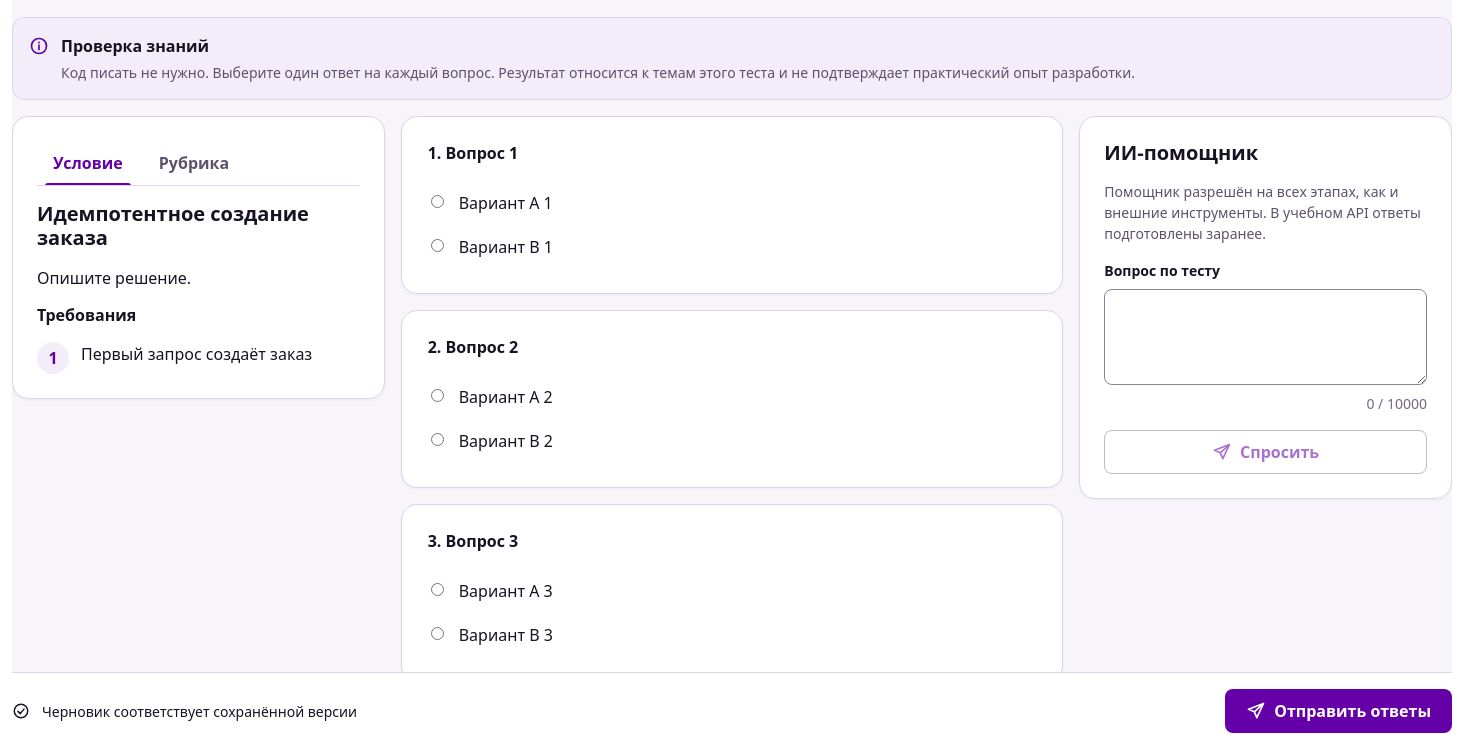
Test: assessment draft persistence › does not submit incomplete test answers
Click the button "Отправить ответы" at (1339, 711), box [1225,689,1452,733]
(page scrolled)
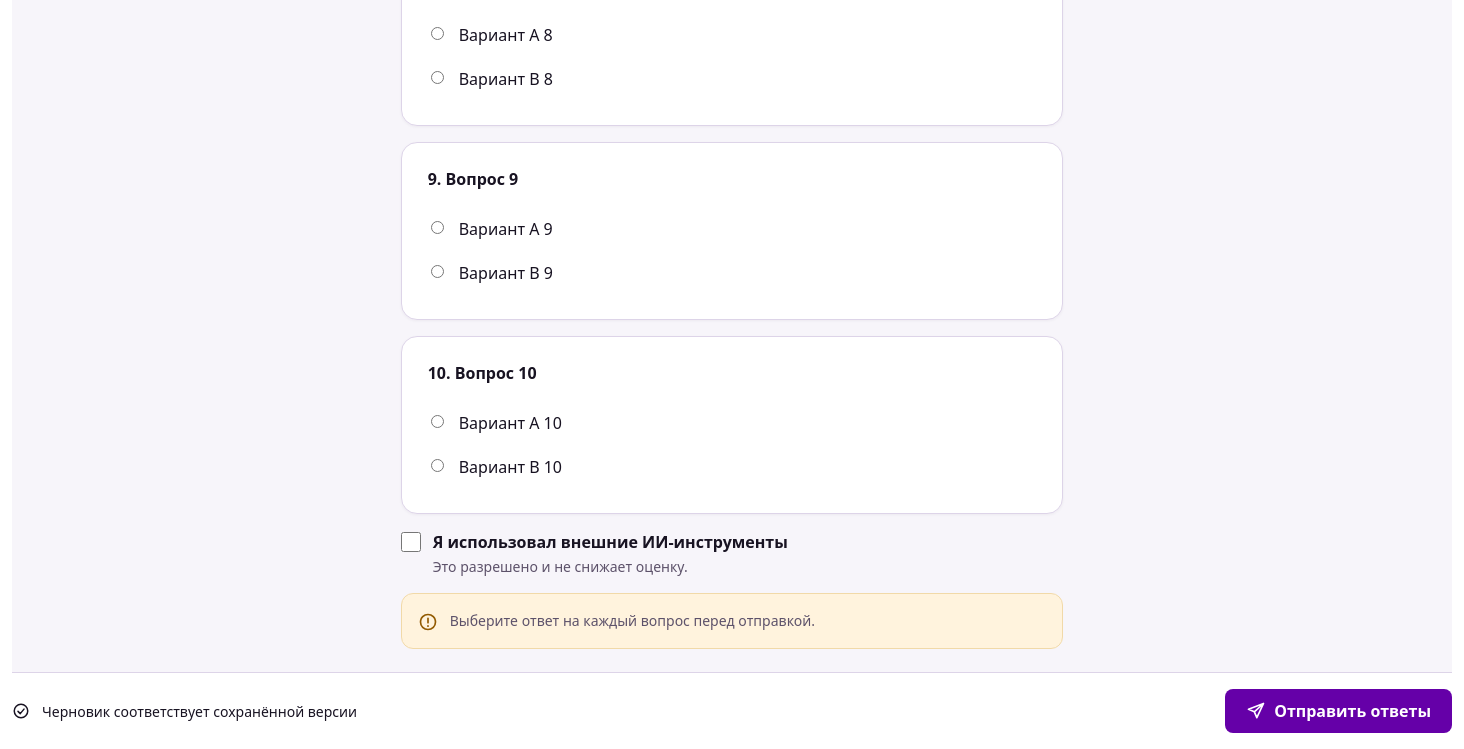
Expected: the text "Выберите ответ на каждый вопрос перед отправкой." is shown, [450,611,815,630]
